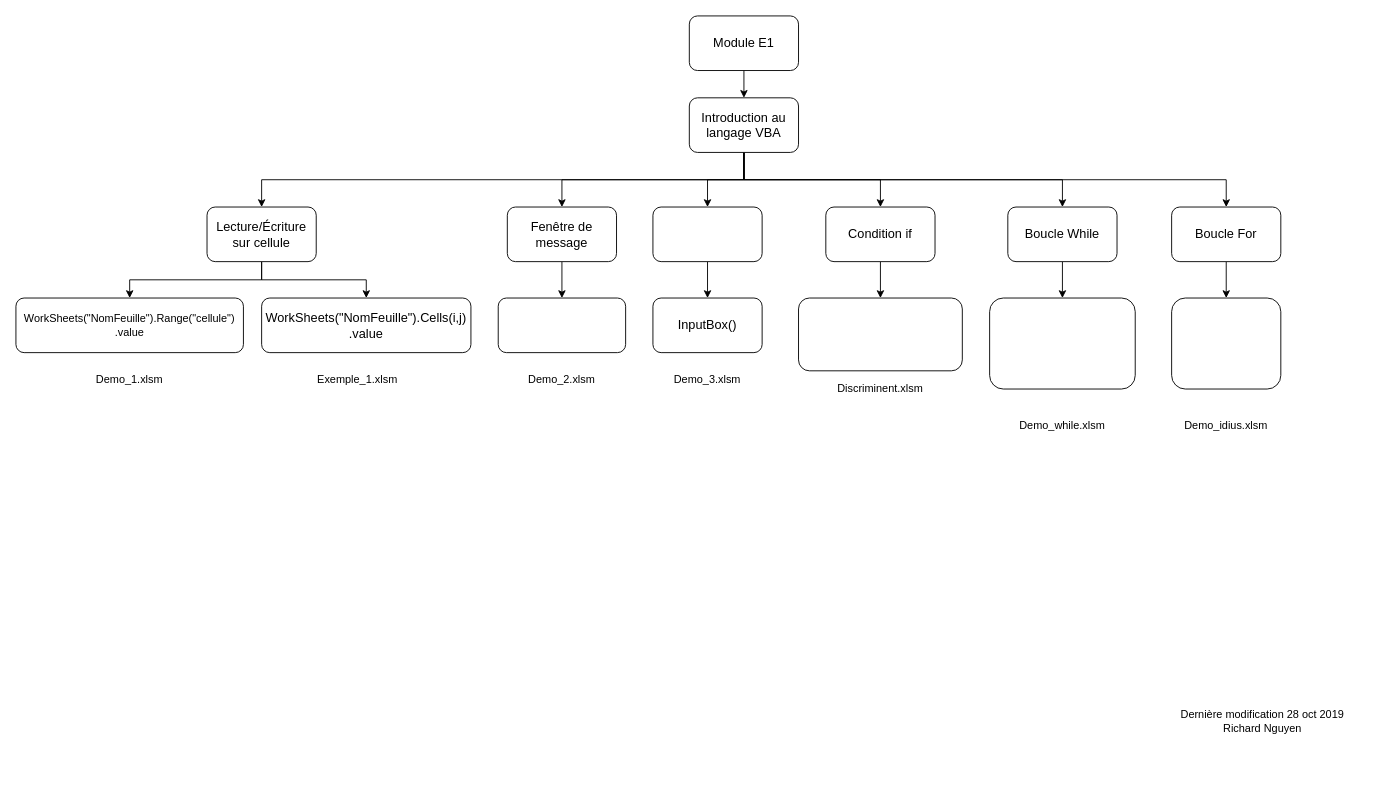
This 1388x787 diagram has some shape labels left out. Here are the shapes that lost their labels. From the top down, the centre of each, then its label:
(707,234): Fenêtre et question
(561,325): MsgBox("message")
(880,334): If condition Then Else if condition Then Else End If
(1062,343): Do While condition Opération Loop
(1226,343): For i=n1 to n2 Operation Next i
